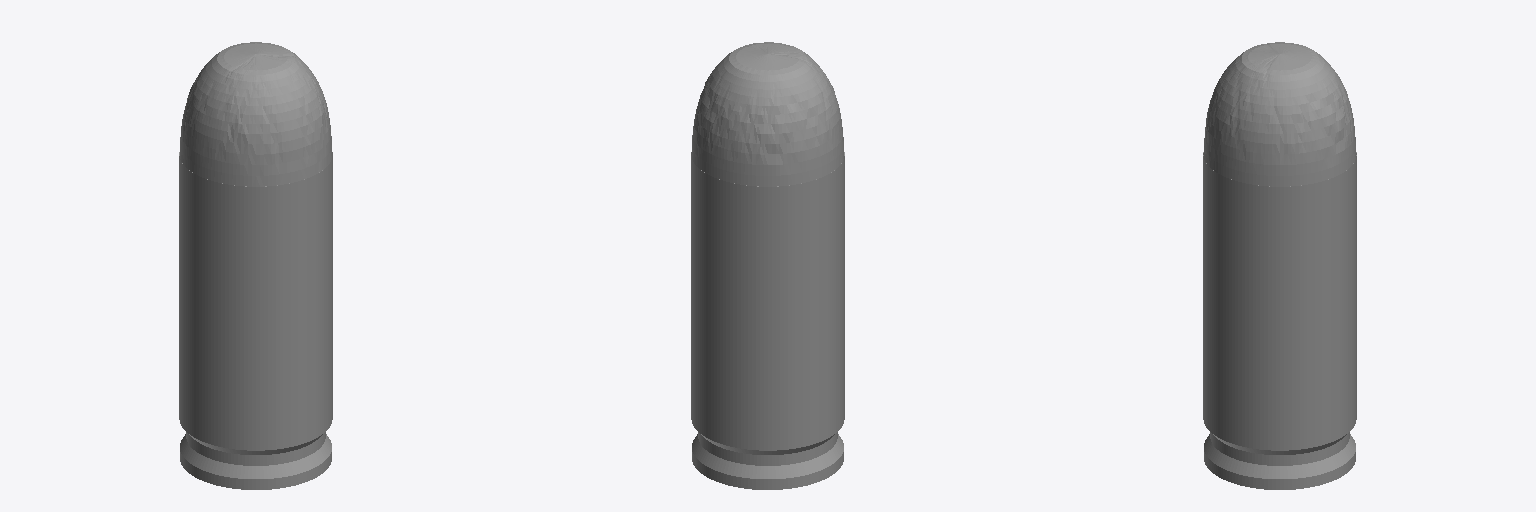
File: bullet.obj
3 renders of one model, left to right at view 1: azimuth 30°, elevation 25°; view 2: azimuth 150°, elevation 25°; view 3: azimuth 270°, elevation 25°, orthographic.
Visible parts, largest first — view 1: BulletCasing_Circle.005, Bullet_Circle.003; view 2: BulletCasing_Circle.005, Bullet_Circle.003; view 3: BulletCasing_Circle.005, Bullet_Circle.003.
Part boxes in pixels (bbox=[...]): BulletCasing_Circle.005: bbox=[179, 152, 332, 489]; Bullet_Circle.003: bbox=[180, 42, 332, 186]; BulletCasing_Circle.005: bbox=[691, 152, 844, 489]; Bullet_Circle.003: bbox=[691, 42, 843, 186]; BulletCasing_Circle.005: bbox=[1203, 152, 1356, 489]; Bullet_Circle.003: bbox=[1203, 42, 1356, 186].
Size of the model in its own units: 0.6237 by 1.81 by 0.6237.